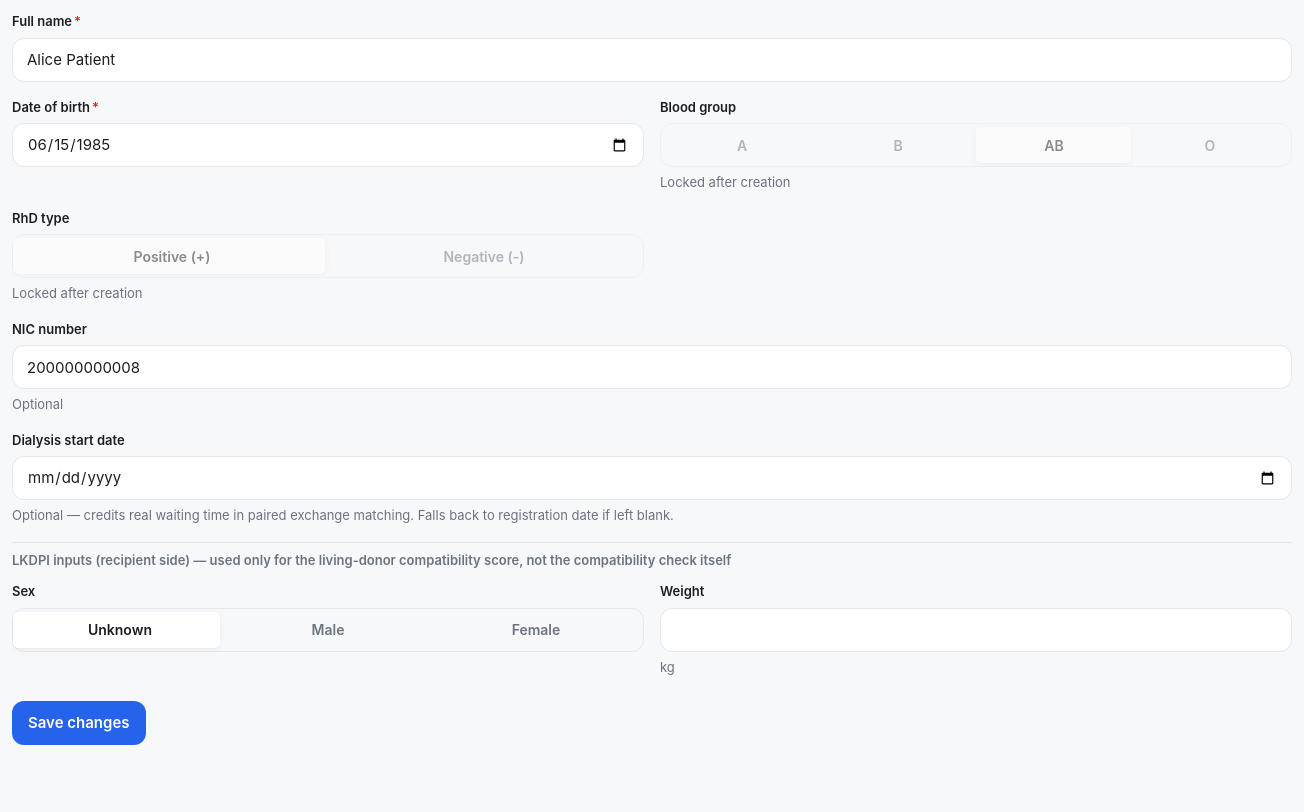
Test case: PatientForm › edit mode still requires full name and date of birth
Clear the field labelled "Full name" at (652, 60), box [12,38,1292,82]
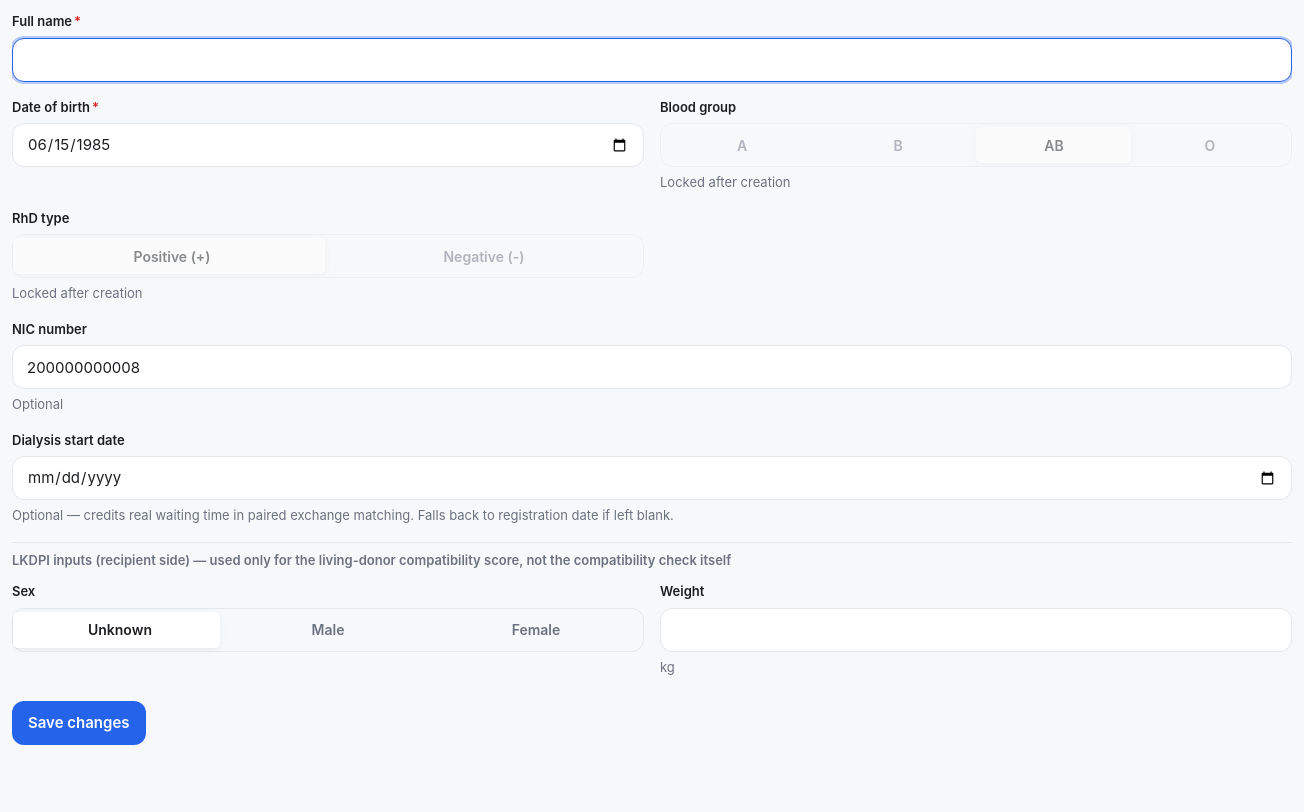
Click the button "Save changes" at (79, 723), box [12,701,146,745]
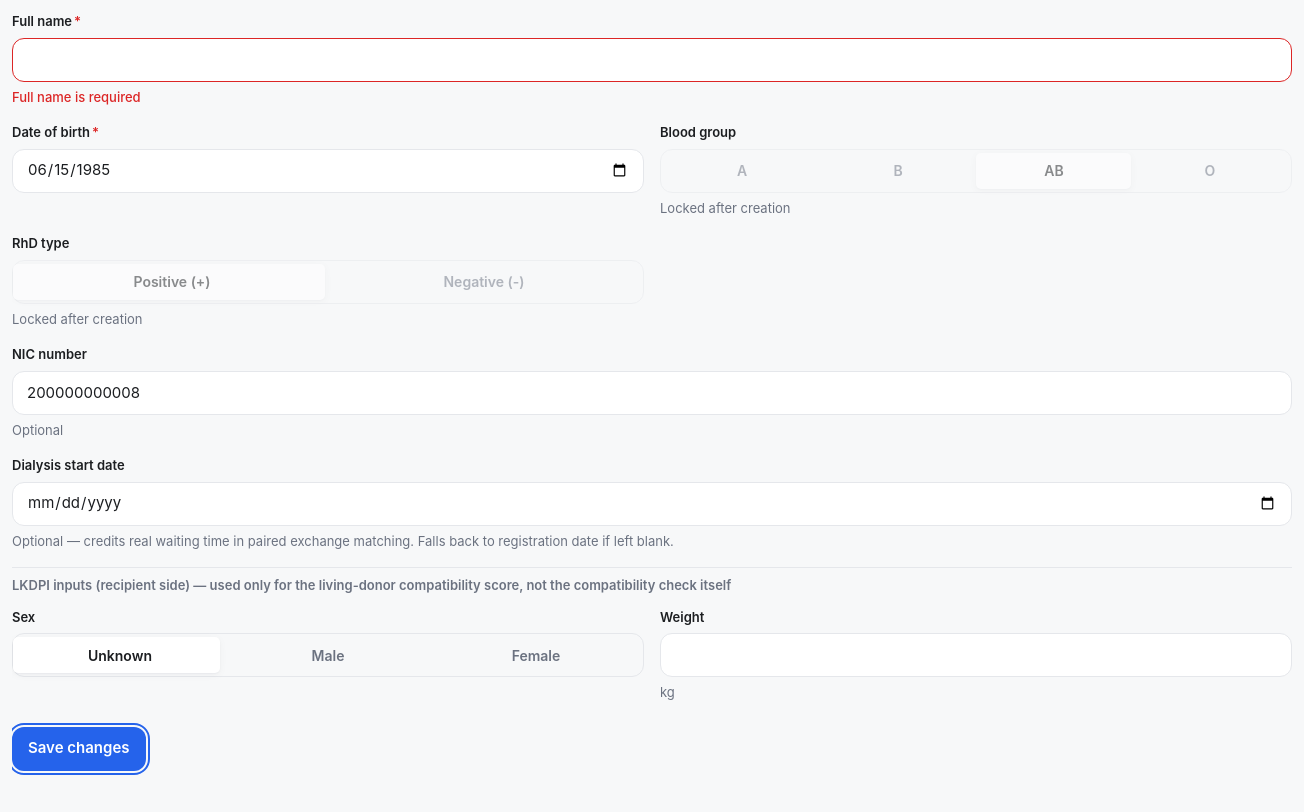
Expected: the text "Full name is required" is shown, [12,88,141,104]
